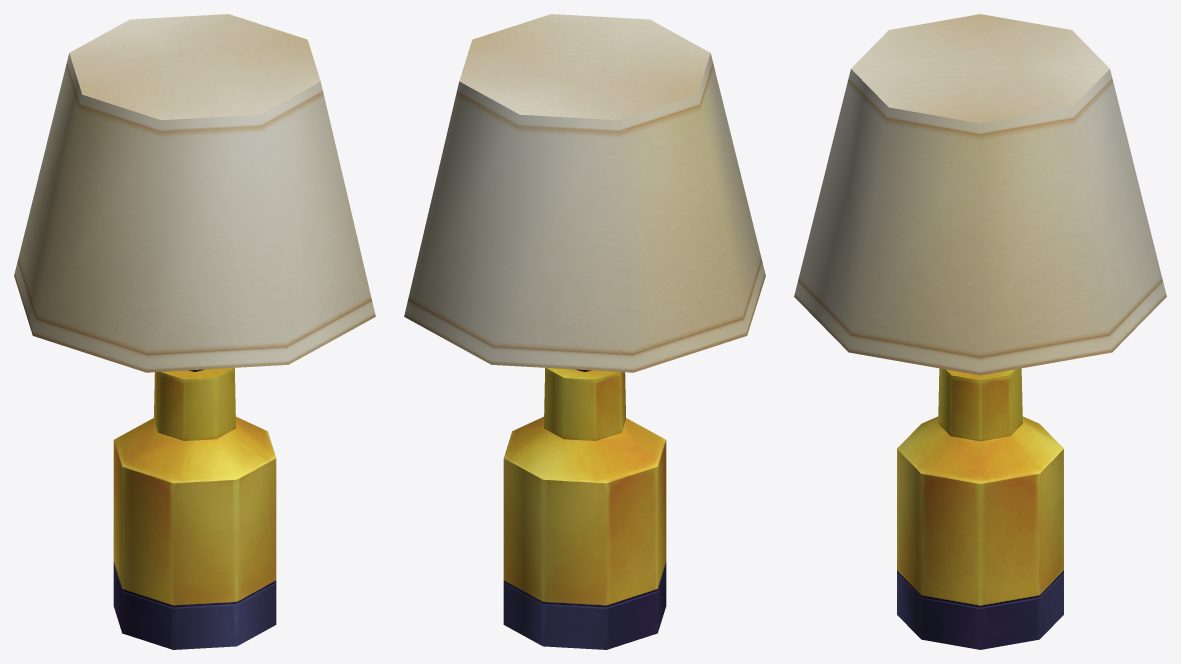
File: ShenFuXiuXiShi_01_taideng_01.FBX
The picture shows the model from 3 angles, left to right: view 1: azimuth 30°, elevation 25°; view 2: azimuth 150°, elevation 25°; view 3: azimuth 270°, elevation 25°; orthographic projection.
Parts seen in each view (by area): view 1: ShenFuXiuXiShi_01_taideng_01; view 2: ShenFuXiuXiShi_01_taideng_01; view 3: ShenFuXiuXiShi_01_taideng_01.
Part boxes in pixels (x1,y1,x2,y2): ShenFuXiuXiShi_01_taideng_01: (14, 14, 375, 649); ShenFuXiuXiShi_01_taideng_01: (404, 14, 765, 649); ShenFuXiuXiShi_01_taideng_01: (794, 14, 1166, 649).
Bounding box in the file's own units: 153 × 247 × 153.
